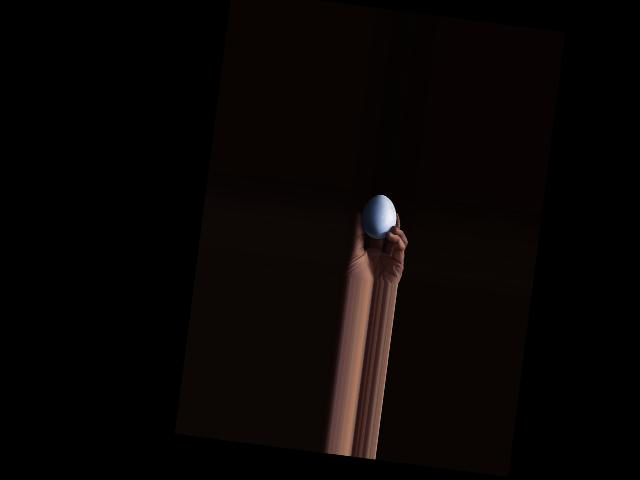egg: (359, 192, 400, 240)
